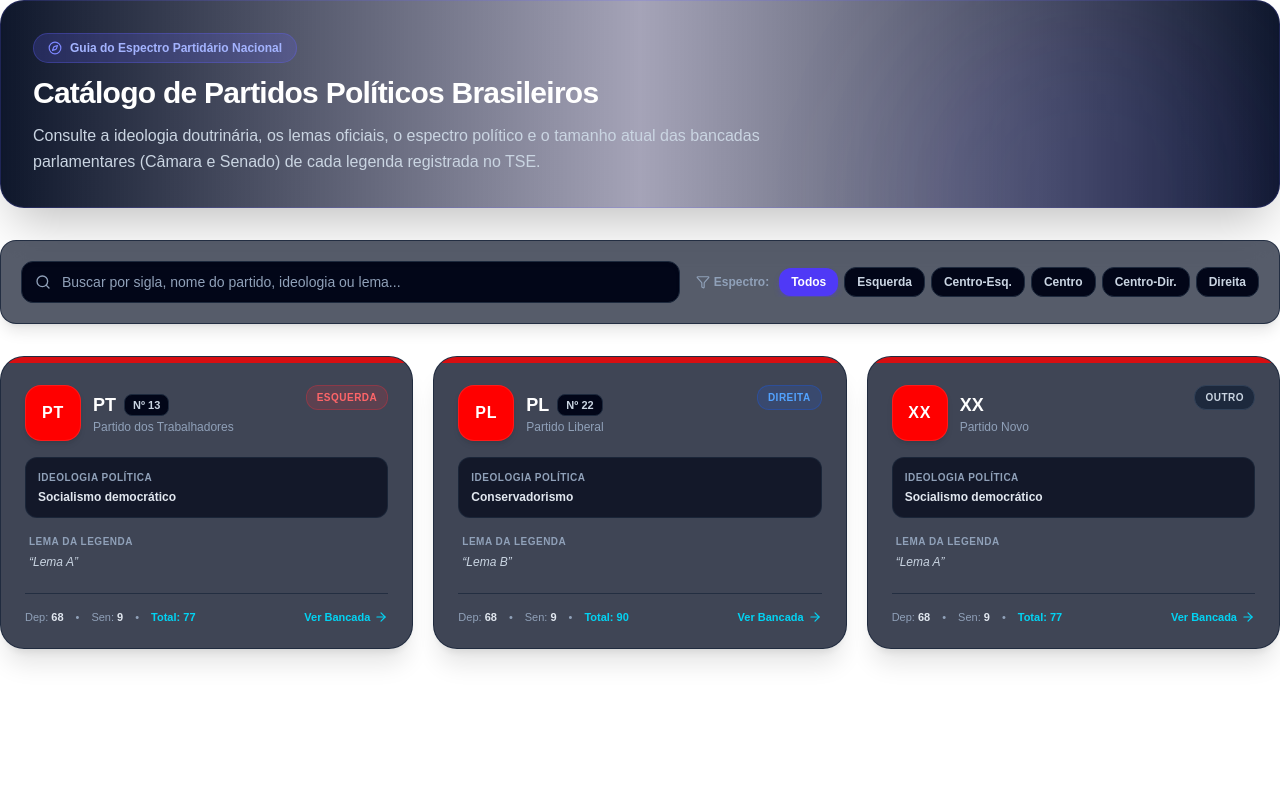
Test: PartiesPanel › filtra por busca textual e por espectro
This screenshot has width=1280, height=800.
Expected: the text "Partido Liberal" is shown, 526,419 -> 604,435
Type "conservad" into the field named "Buscar partido".
click(350, 282); type("conservad")  # box 21,261 -> 680,303
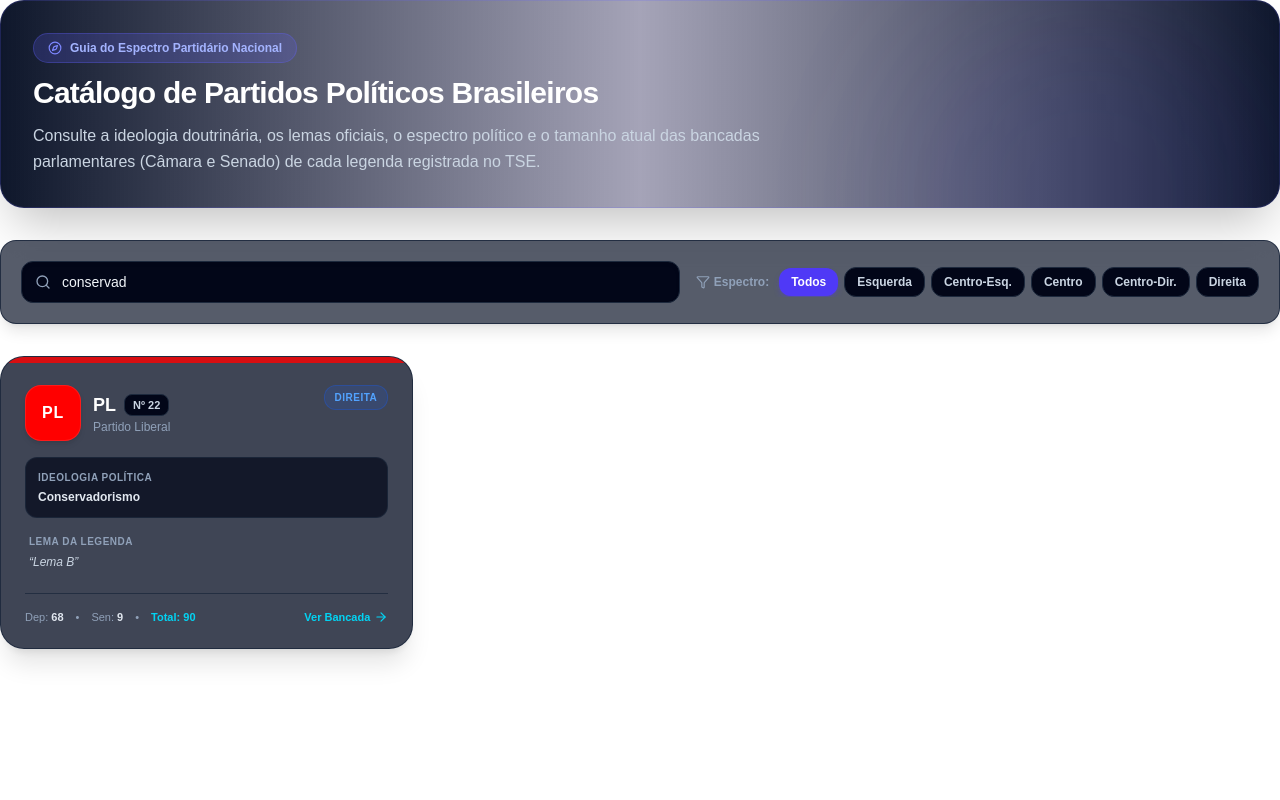
Expected: the text "Partido Liberal" is shown, 93,419 -> 170,435
Result: the text "Partido dos Trabalhadores" is gone
Clear the field named "Buscar partido" at (350, 282), box 21,261 -> 680,303
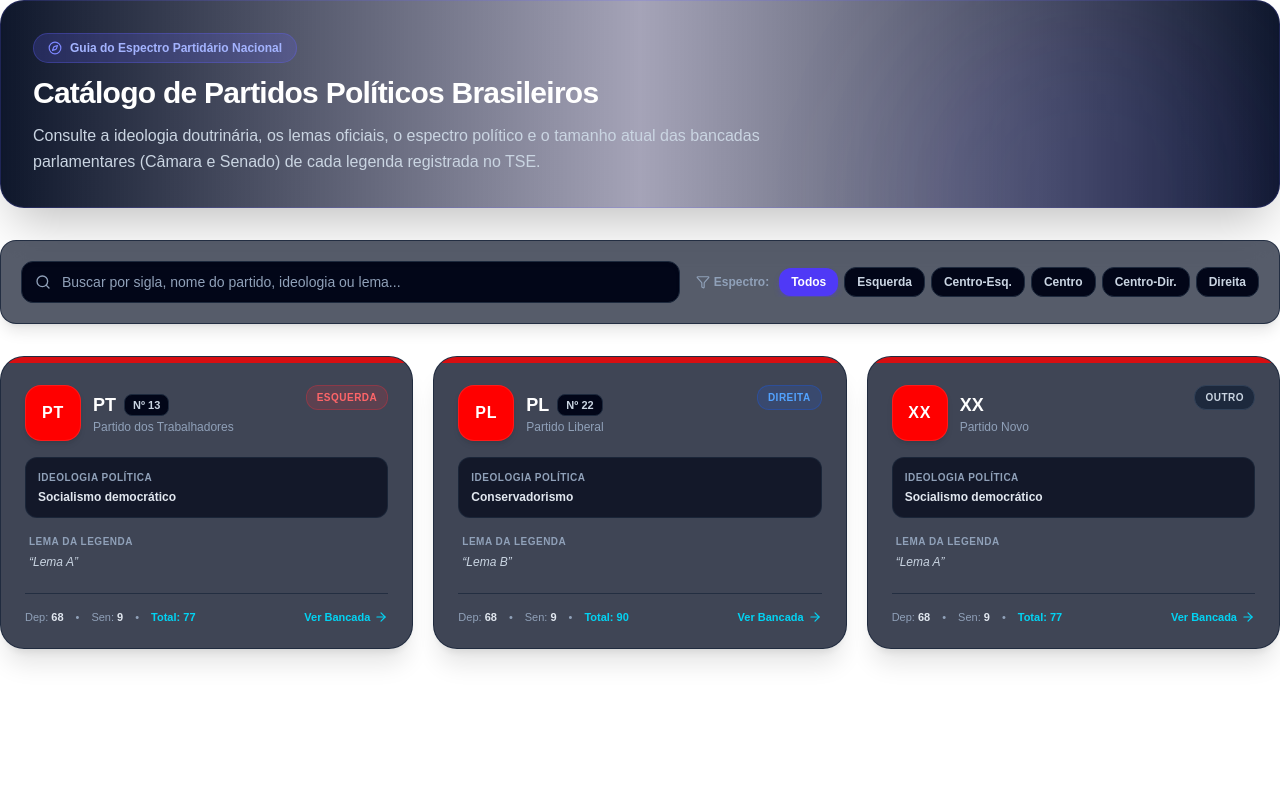
Click the button "Esquerda".
click(885, 282)  # box 844,267 -> 925,297
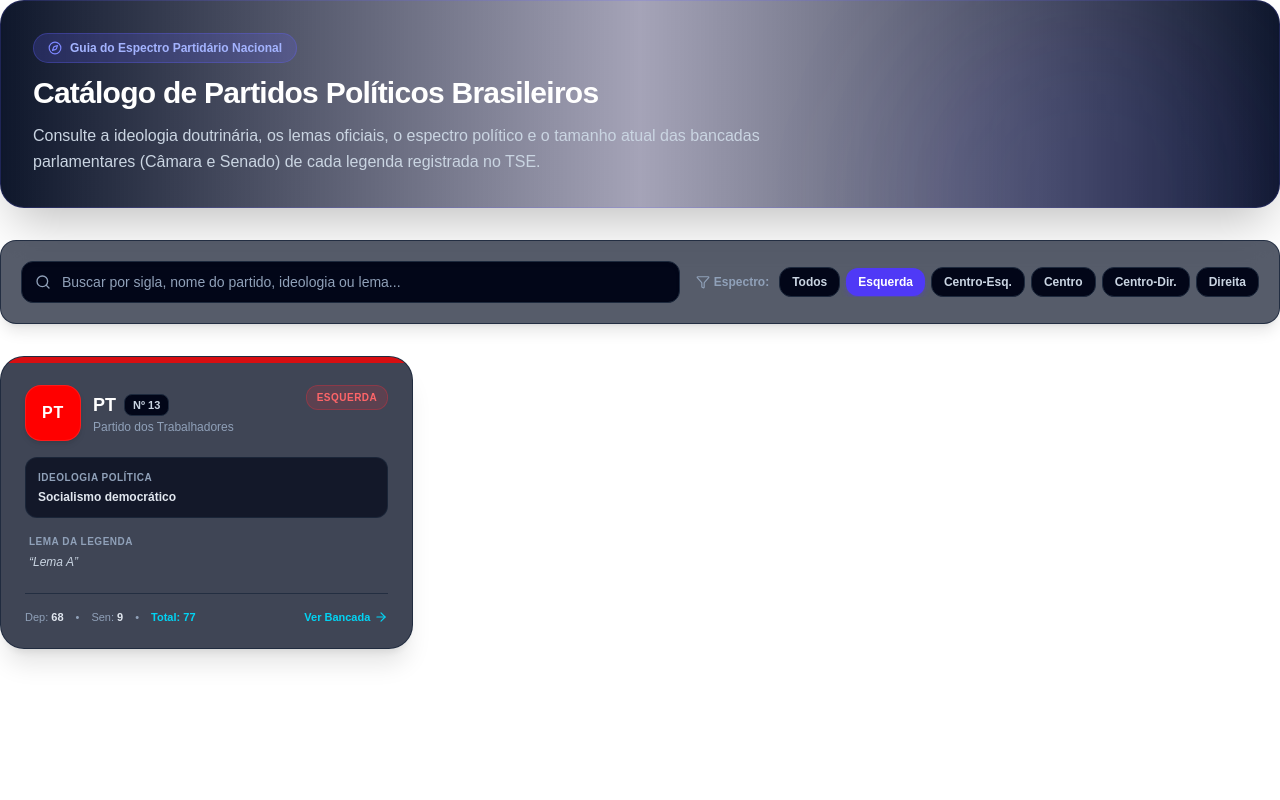
Result: the text "Partido dos Trabalhadores" is shown at 93,419 -> 234,435
Result: the text "Partido Liberal" is gone
